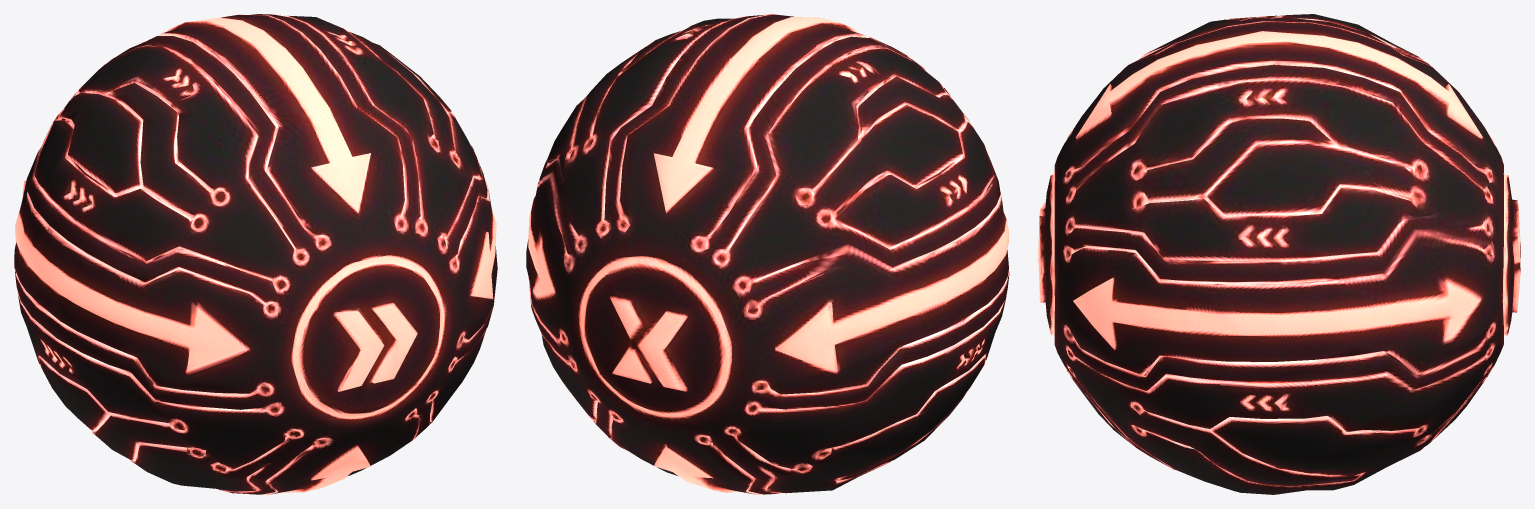
File: debuff_enemyfast.glb
The picture shows the model from 3 angles, left to right: view 1: azimuth 30°, elevation 25°; view 2: azimuth 150°, elevation 25°; view 3: azimuth 270°, elevation 25°; orthographic projection.
Parts seen in each view (by area): view 1: tripo_node_93461b46-af7b-4a75-b12e-12716efd49c3; view 2: tripo_node_93461b46-af7b-4a75-b12e-12716efd49c3; view 3: tripo_node_93461b46-af7b-4a75-b12e-12716efd49c3.
Part boxes in pixels (x1,y1,x2,y2): tripo_node_93461b46-af7b-4a75-b12e-12716efd49c3: [14, 14, 497, 494]; tripo_node_93461b46-af7b-4a75-b12e-12716efd49c3: [526, 14, 1009, 494]; tripo_node_93461b46-af7b-4a75-b12e-12716efd49c3: [1038, 14, 1520, 494].
Size of the model in its own units: 0.9748 by 0.9788 by 0.9801.
1 material, 1 textured.
